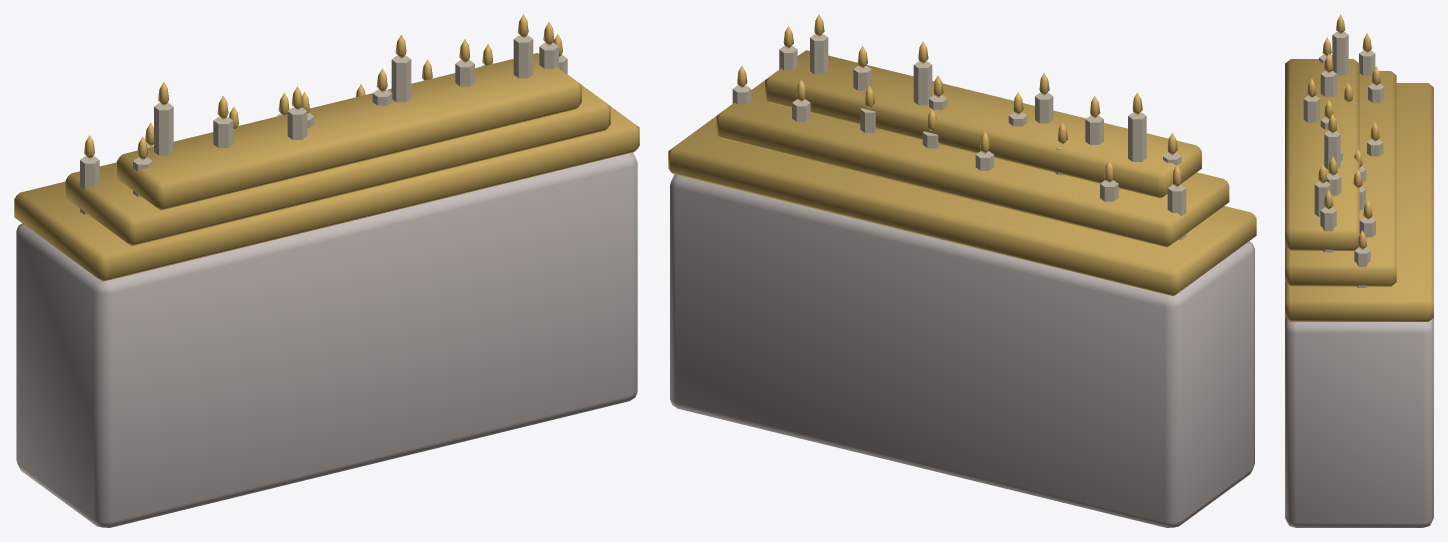
The model's file is candle_bank.glb.
3 views of the same model, side by side, from view 1: azimuth 30°, elevation 25°; view 2: azimuth 150°, elevation 25°; view 3: azimuth 270°, elevation 25° (orthographic). The views are drawn at different scales.
Visible parts, largest first — view 1: candle_bank; view 2: candle_bank; view 3: candle_bank.
Boxes of the visible parts, x1=… form: candle_bank: x1=14, y1=14, x2=639, y2=527; candle_bank: x1=668, y1=14, x2=1256, y2=527; candle_bank: x1=1285, y1=14, x2=1433, y2=527.
Size of what is drawn, in the model's own units: 1.4 by 1 by 0.4.
